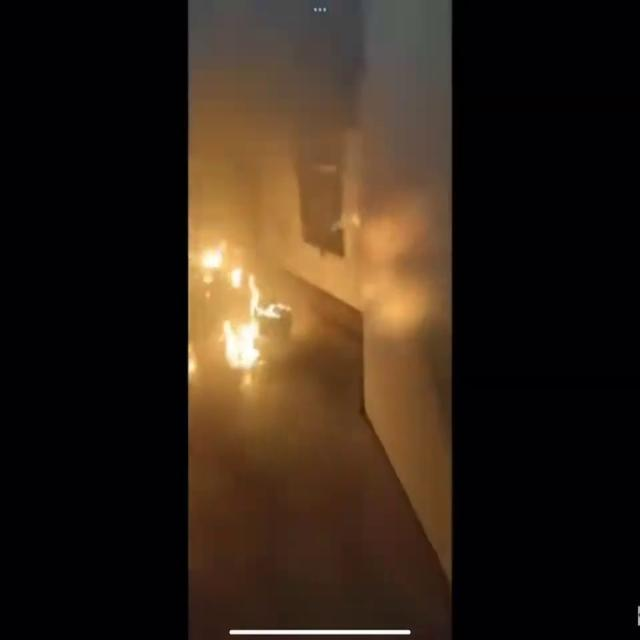Fire: (192, 238, 300, 382)
